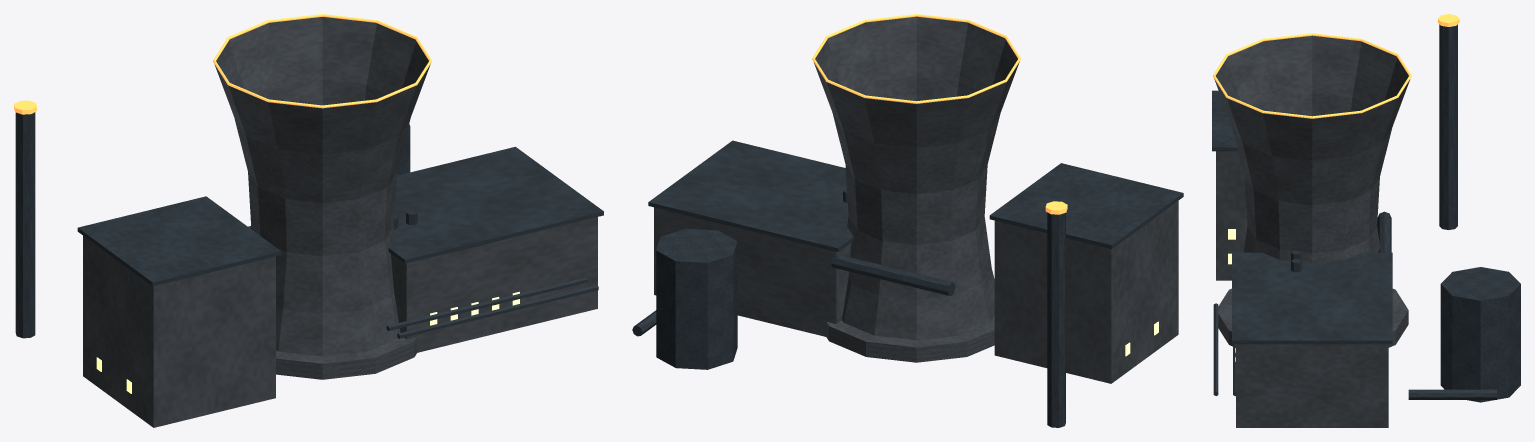
File: geothermal-plant-lod2.glb
The picture shows the model from 3 angles, left to right: view 1: azimuth 30°, elevation 25°; view 2: azimuth 150°, elevation 25°; view 3: azimuth 270°, elevation 25°; orthographic projection. The views are drawn at different scales.
Parts seen in each view (by area): view 1: CinematicBatch_concrete, CinematicBatch_steel, CinematicBatch_amber; view 2: CinematicBatch_concrete, CinematicBatch_steel, CinematicBatch_amber; view 3: CinematicBatch_concrete, CinematicBatch_steel, CinematicBatch_amber.
Boxes of the visible parts, box(x1,y1,x2,y2) form: CinematicBatch_concrete: box(83, 17, 597, 427); CinematicBatch_steel: box(15, 112, 603, 338); CinematicBatch_amber: box(14, 14, 431, 114); CinematicBatch_concrete: box(654, 16, 1178, 383); CinematicBatch_steel: box(632, 140, 1183, 427); CinematicBatch_amber: box(812, 14, 1067, 214); CinematicBatch_concrete: box(1214, 35, 1410, 427); CinematicBatch_steel: box(1212, 24, 1520, 402); CinematicBatch_amber: box(1213, 14, 1459, 118).
Bounding box in the file's own units: 61.35 × 34.37 × 38.5.
Materials: 4 (2 with a texture image).
